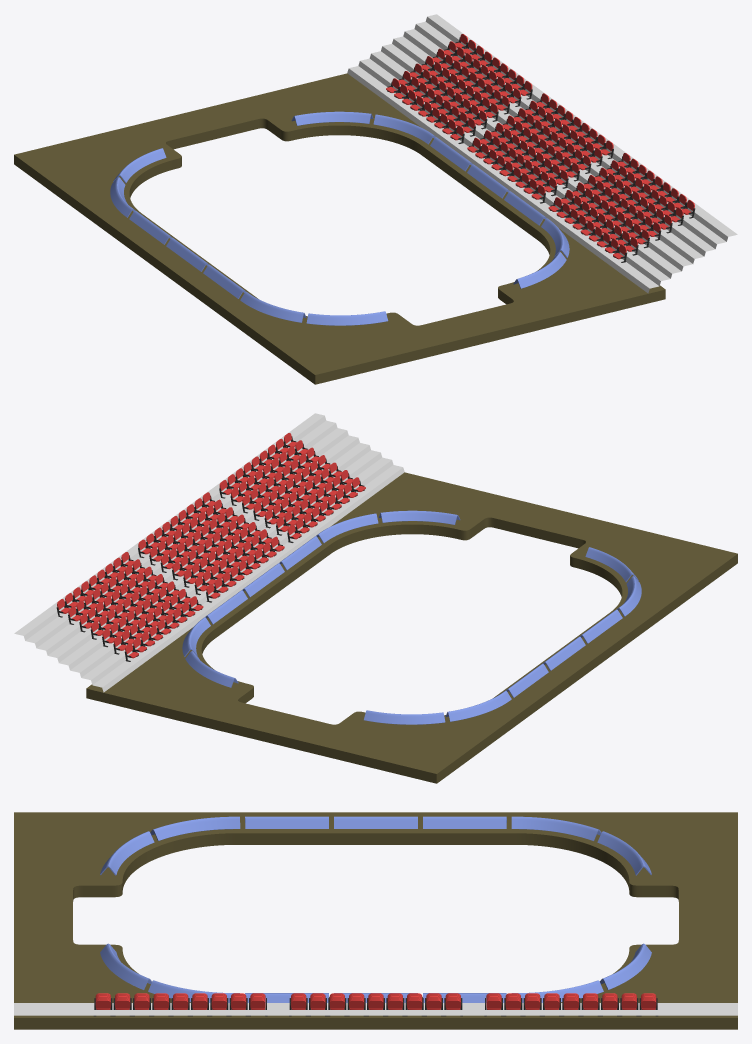
File: Pitch.fbx
3 renders of one model, top to bottom at view 1: azimuth 30°, elevation 25°; view 2: azimuth 150°, elevation 25°; view 3: azimuth 270°, elevation 25°, orthographic. The views are drawn at different scales.
Parts seen in each view (by area): view 1: exported.014, Cube.004, Plane.008, Cube; view 2: exported.014, Cube.004, Plane.008, Cube; view 3: exported.014, Cube, Cube.004, Plane.008.
Boxes of the visible parts, box(x1,y1,x2,y2) form: exported.014: box(14, 73, 665, 384); Cube.004: box(386, 34, 695, 262); Plane.008: box(347, 14, 737, 293); Cube: box(110, 111, 569, 325); exported.014: box(86, 472, 737, 783); Cube.004: box(56, 433, 365, 661); Plane.008: box(14, 413, 404, 692); Cube: box(182, 510, 641, 724); exported.014: box(14, 812, 737, 1029); Cube: box(100, 816, 651, 1002); Cube.004: box(94, 993, 657, 1016); Plane.008: box(14, 1003, 737, 1015).
Bounding box in the file's own units: 2965 × 371 × 3657.
